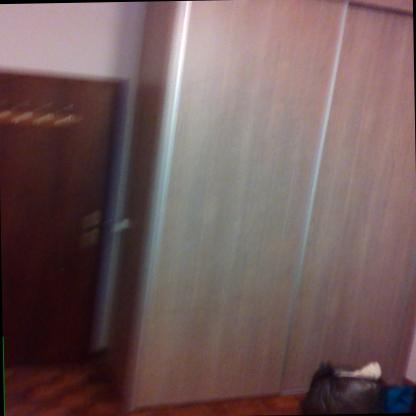closed: (0, 68, 134, 416)
